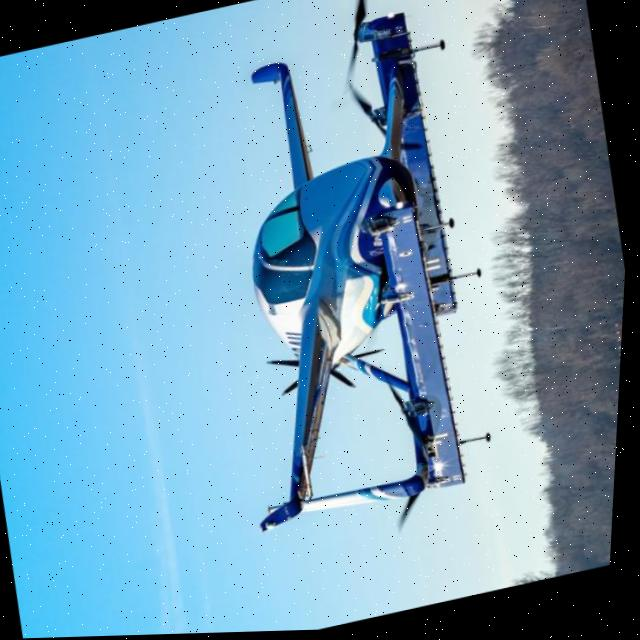drones: (132, 0, 591, 560)
